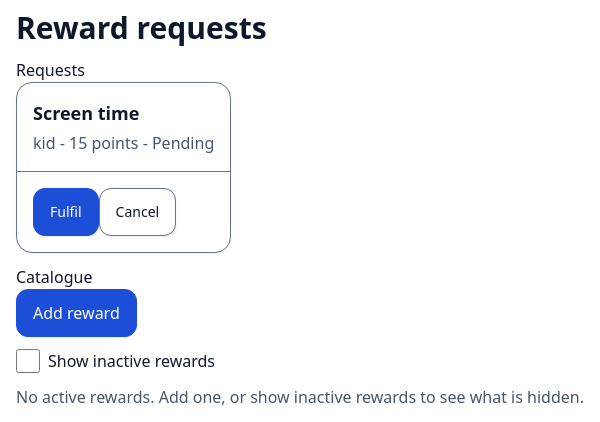
Test: the request queue › fulfilling a request marks it fulfilled and removes its buttons
The width and height of the screenshot is (600, 422).
Click the button with aria-label "Fulfil Screen time for kid": [66, 212] box [33,188,99,236]
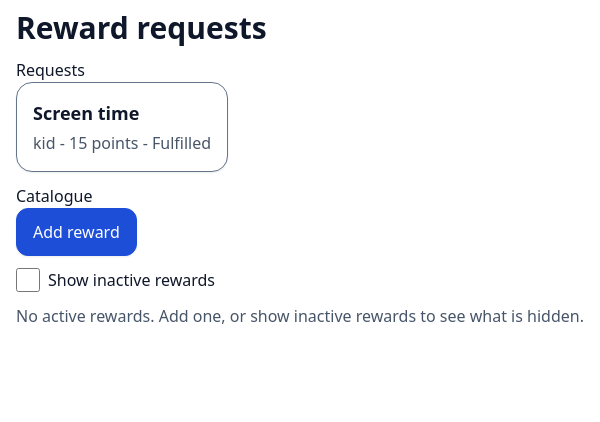
Now the text "kid - 15 points - Fulfilled" is shown, box [33,131,211,155]
